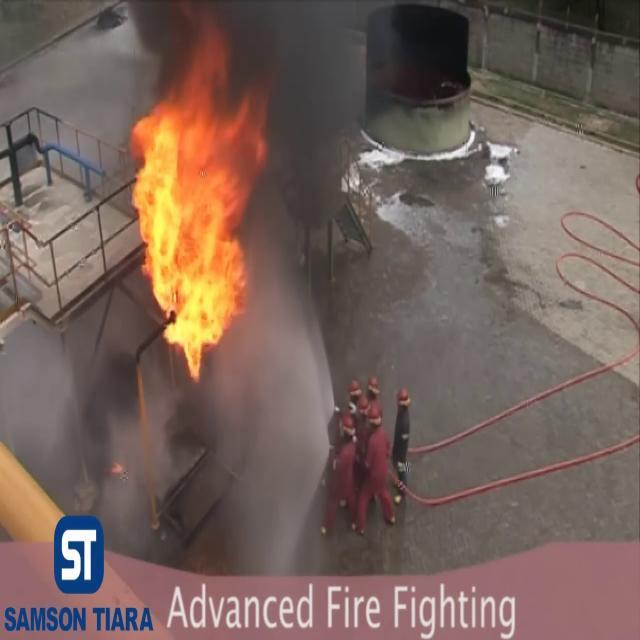Fire: (120, 44, 279, 383)
